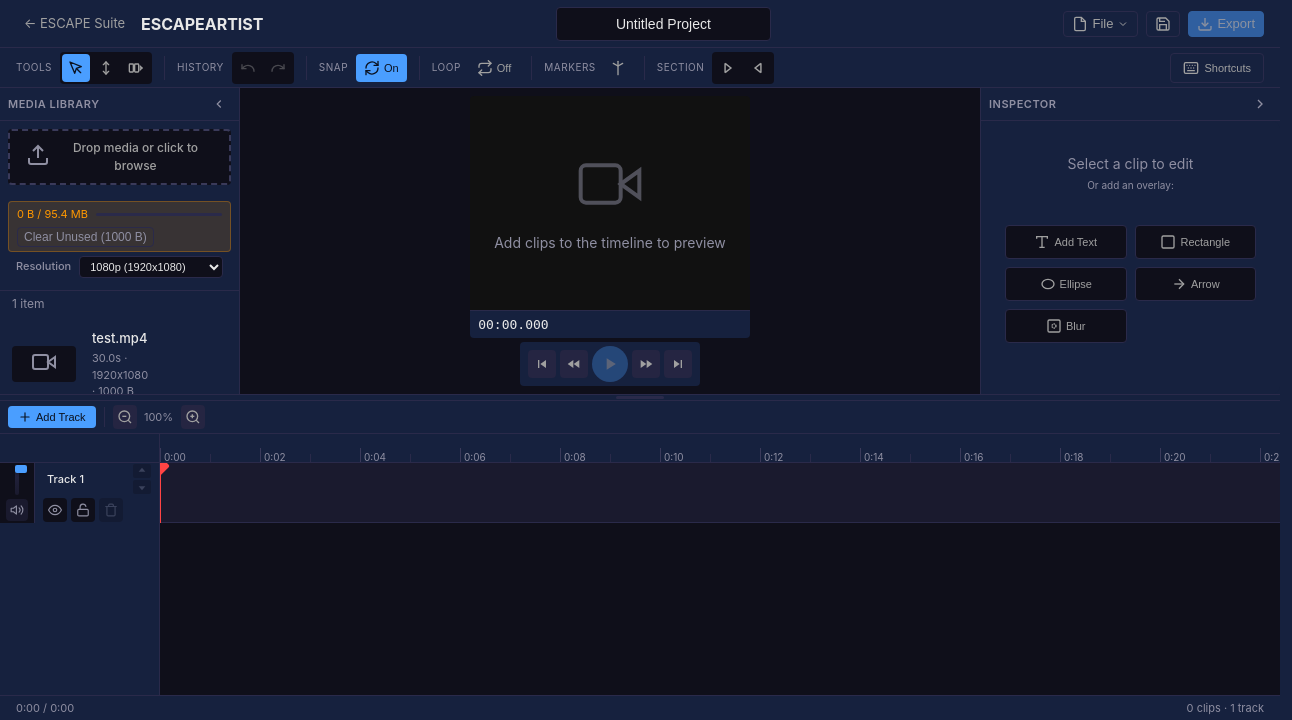
Test case: App project lifecycle › a new project › starts one without asking when nothing would be lost
Click the button with aria-label "File menu".
click(1101, 24)  # box [1064, 10, 1138, 36]
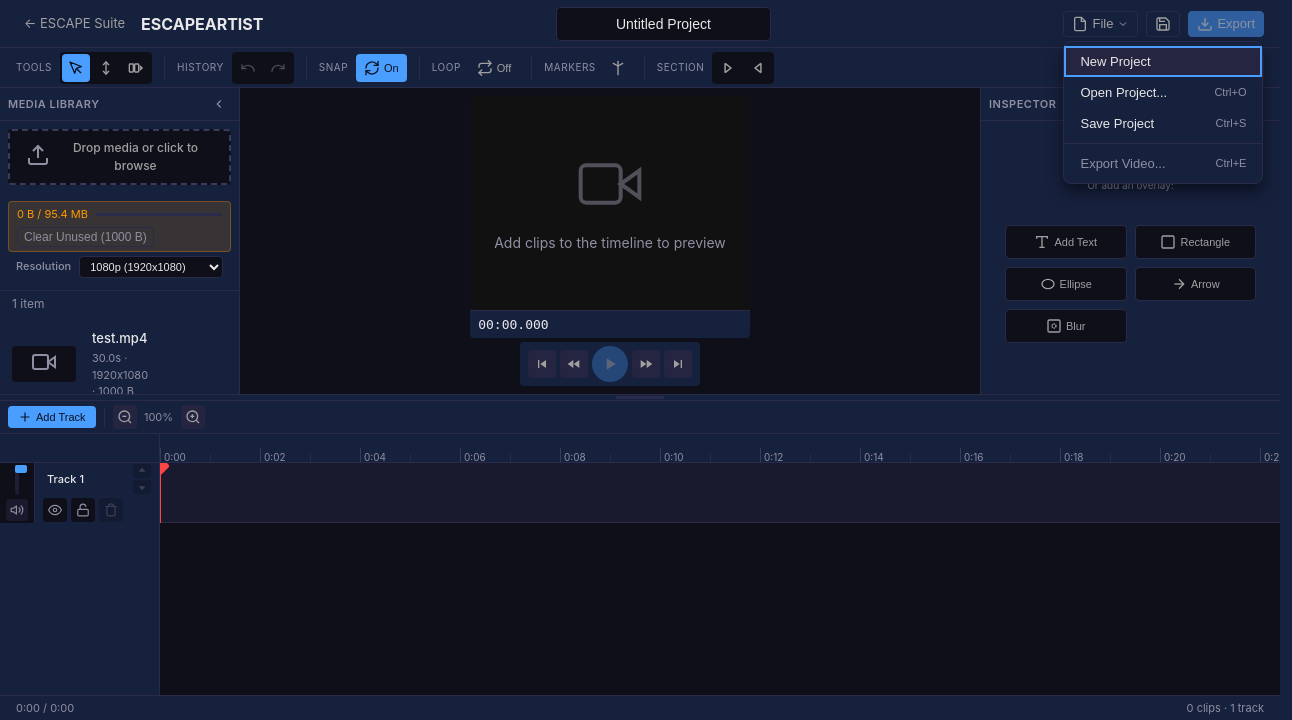
Click the menu item "New Project".
click(1164, 61)  # box [1064, 46, 1262, 76]
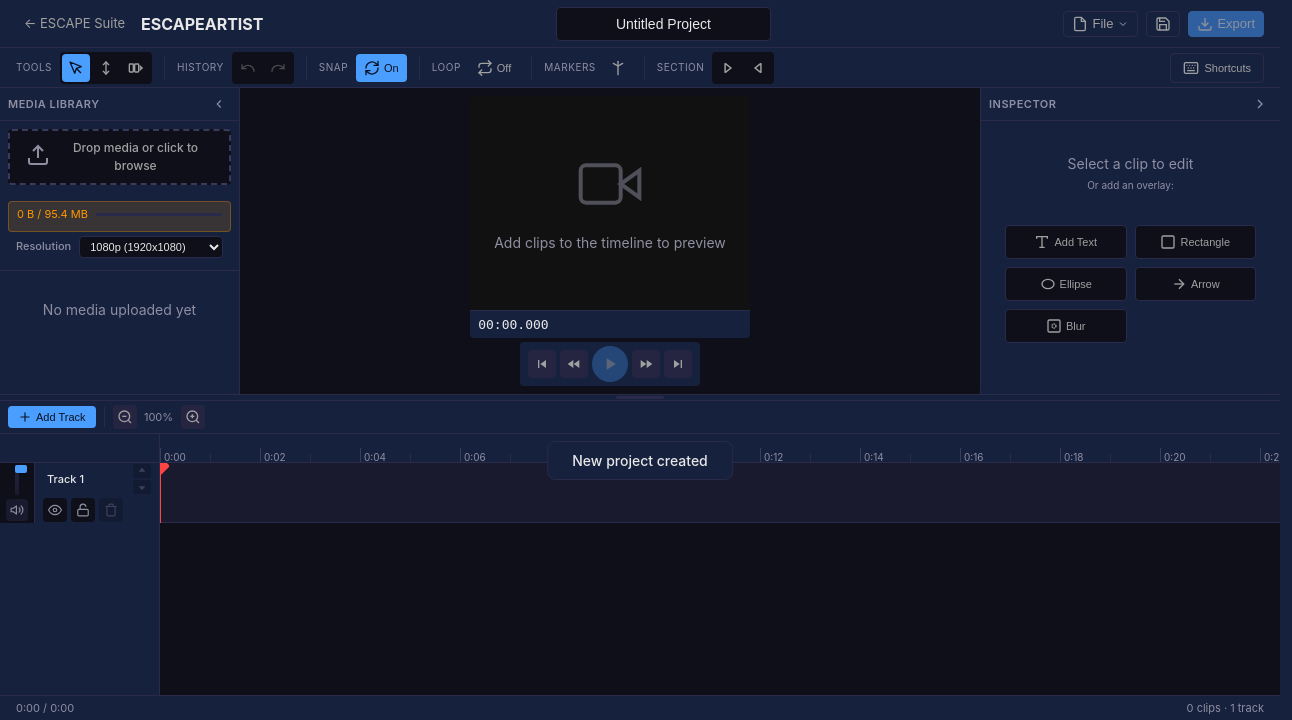
Check: the message reads "New project created", box [572, 452, 708, 469]
